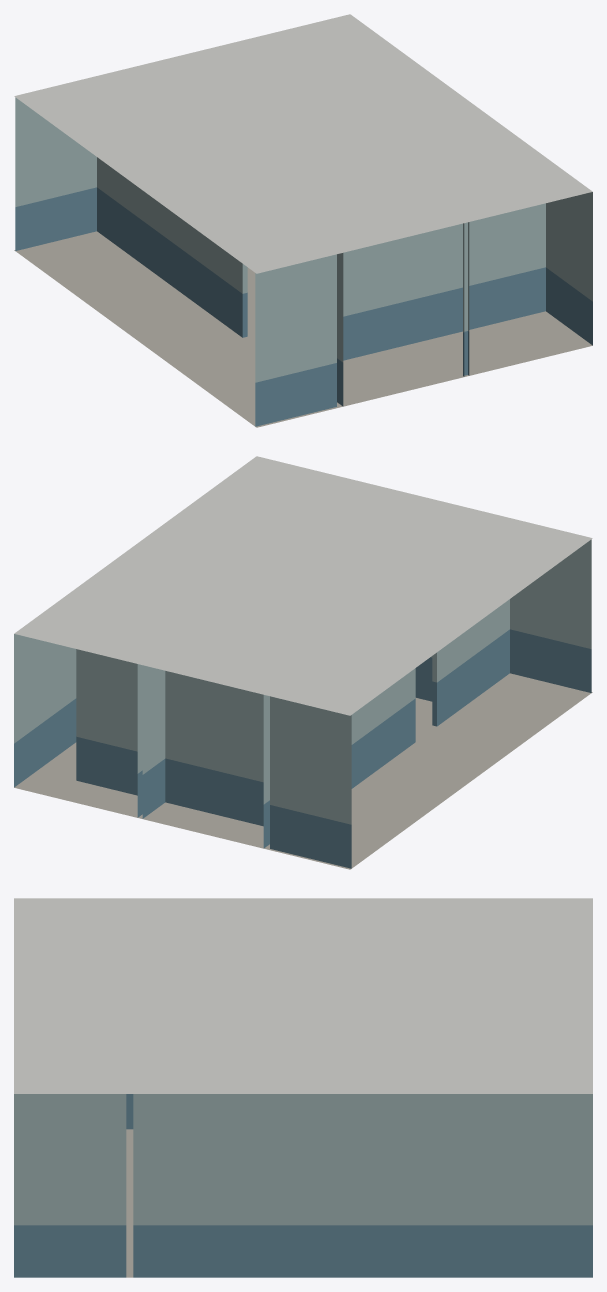
The model's file is chunk_4_3.glb.
3 views of the same model, one above another, from view 1: azimuth 30°, elevation 25°; view 2: azimuth 150°, elevation 25°; view 3: azimuth 270°, elevation 25° (orthographic). The views are drawn at different scales.
Parts seen in each view (by area): view 1: chunk_4_3; view 2: chunk_4_3; view 3: chunk_4_3.
Boxes of the visible parts, x1,y1,x2,y2 form: chunk_4_3: [14, 14, 592, 427]; chunk_4_3: [14, 456, 592, 869]; chunk_4_3: [14, 898, 592, 1277].
Size of the model in its own units: 9.6 by 4.2 by 12.
